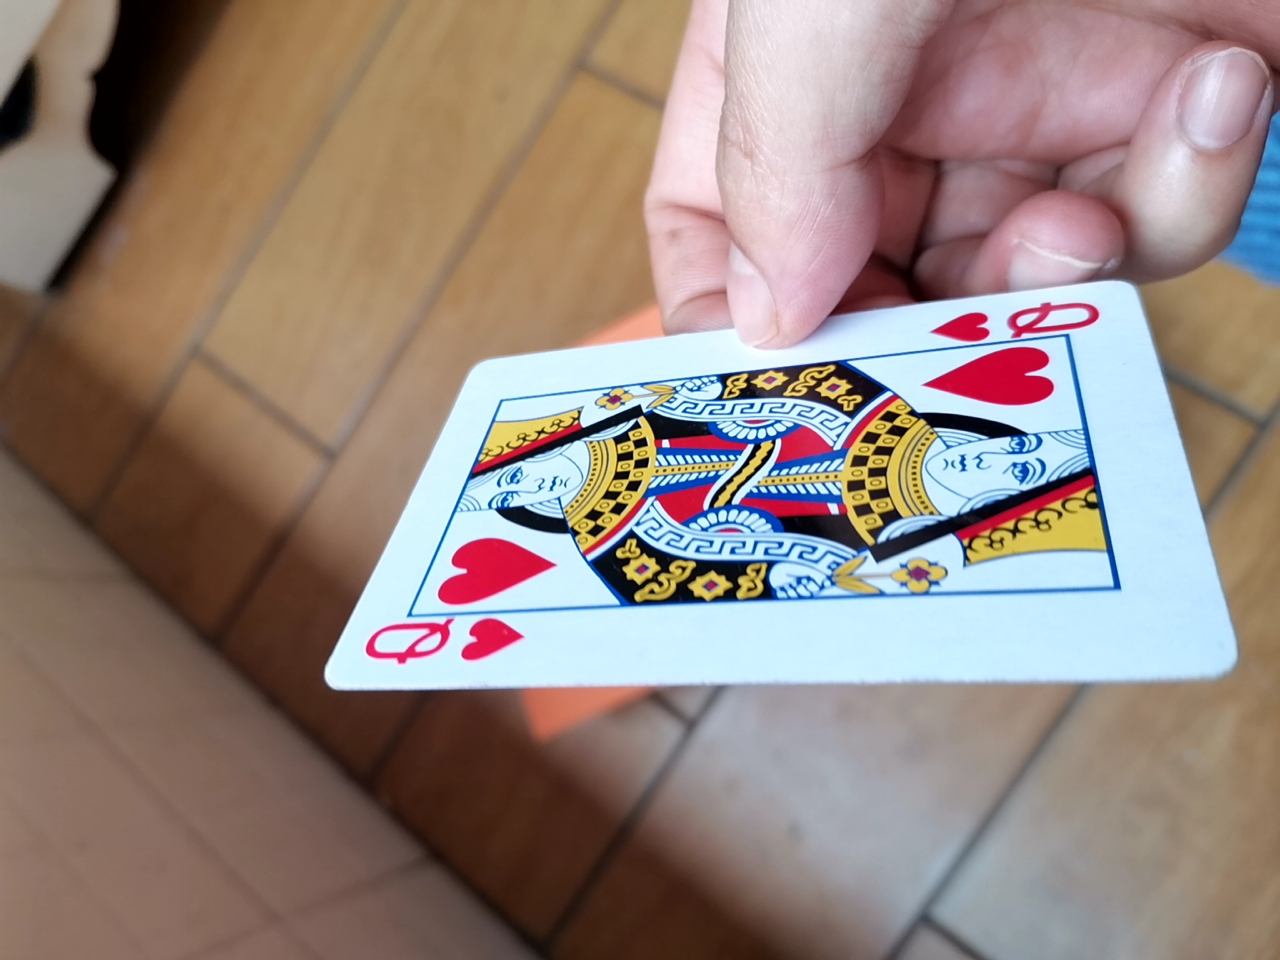hx q: (291, 277, 1223, 703)
